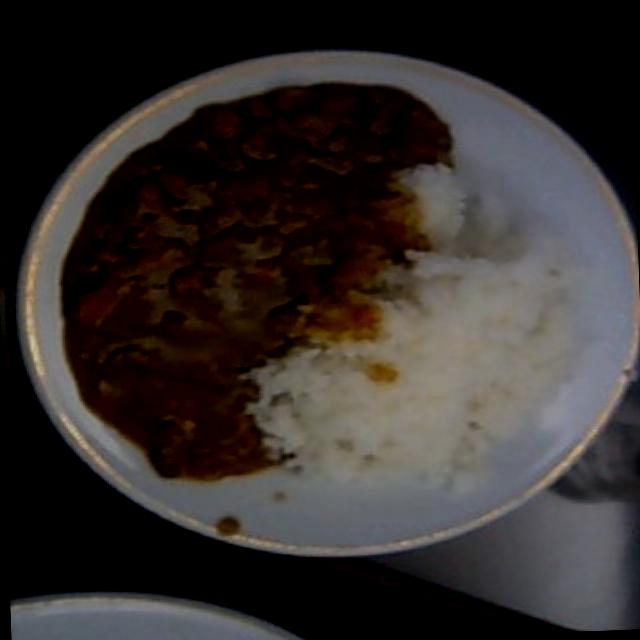Beef Curry: (48, 42, 342, 466)
